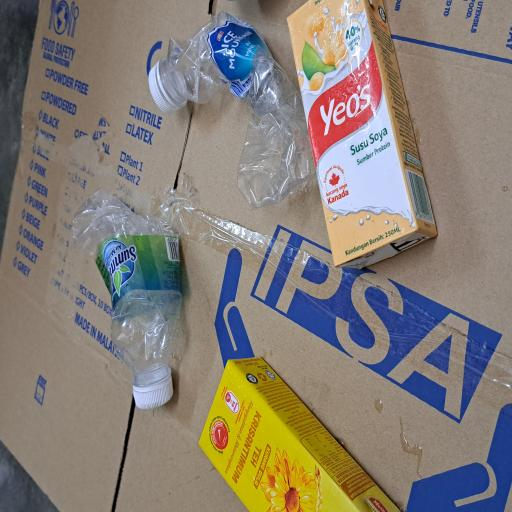cardboard: (0, 0, 384, 512)
drink carton: (0, 265, 116, 512), (181, 382, 383, 512)
plastic bottle: (228, 220, 377, 423), (96, 95, 244, 240)
plastic bottle cap: (298, 197, 338, 237), (77, 178, 102, 232)
